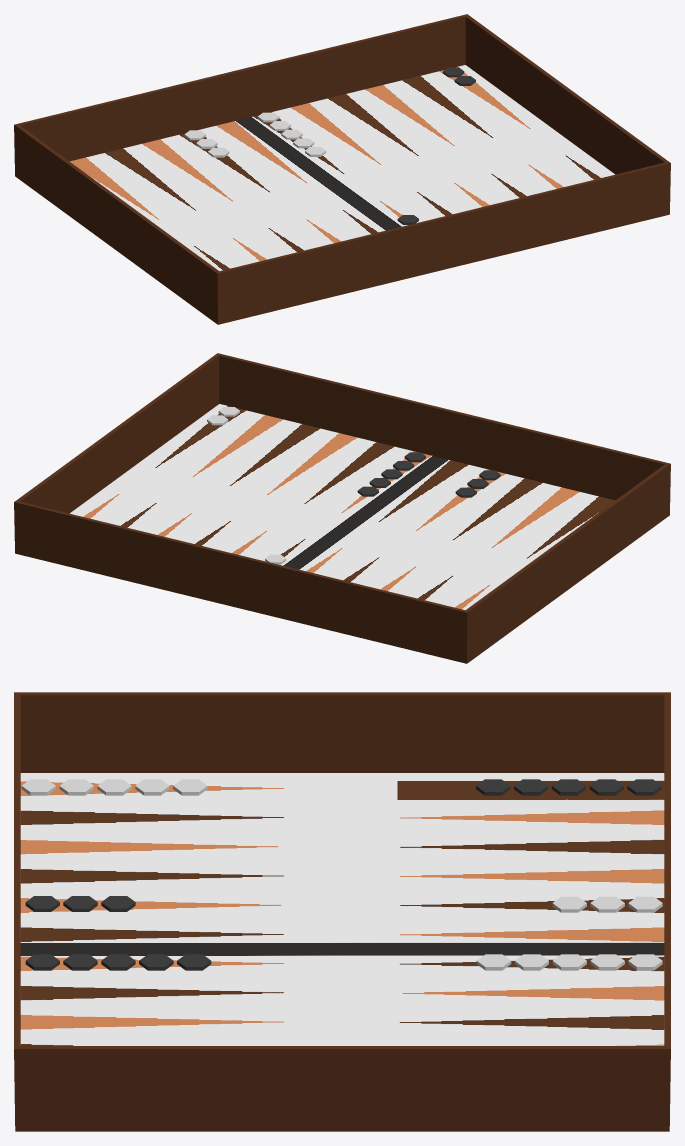
Rendered from TavlaOpen.fbx.
3 renders of one model, top to bottom at view 1: azimuth 30°, elevation 25°; view 2: azimuth 150°, elevation 25°; view 3: azimuth 270°, elevation 25°, orthographic. The views are drawn at different scales.
Parts seen in each view (by area): view 1: TavlaOpen; view 2: TavlaOpen; view 3: TavlaOpen.
Boxes of the visible parts, left/top/right/bottom form: TavlaOpen: left=14, top=14, right=670, bottom=324; TavlaOpen: left=14, top=353, right=670, bottom=663; TavlaOpen: left=14, top=692, right=670, bottom=1131.
Size of the model in its own units: 245 by 26.67 by 191.
5 materials, 2 textured.
